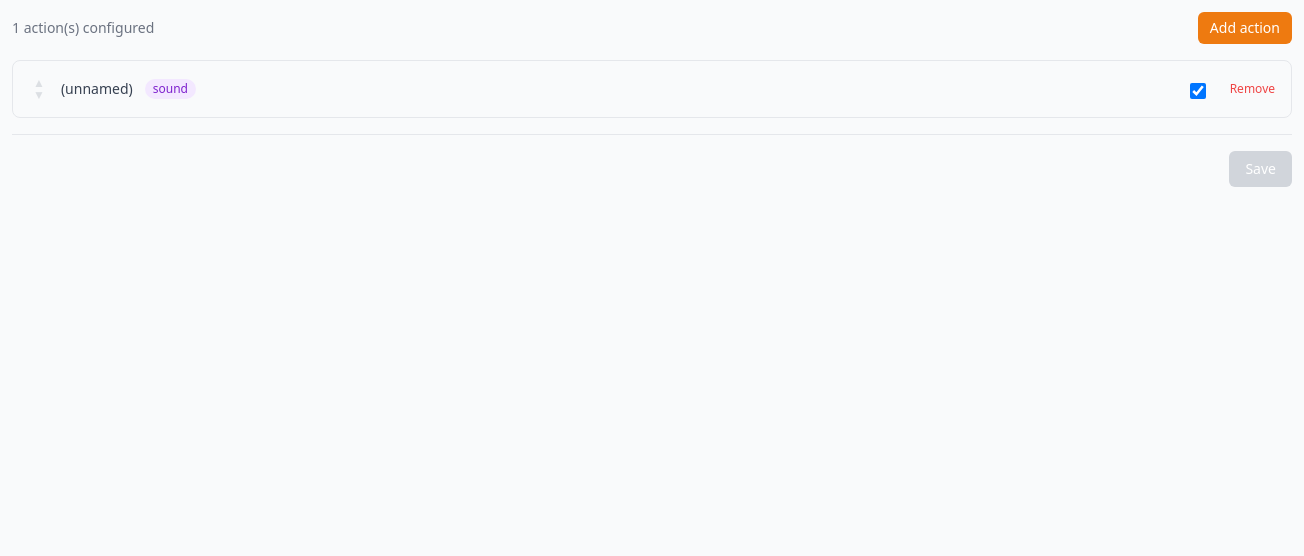
Scenario: ActionsTab validation › shows error when action has empty name
# Trigger dirty state by adding another action, then save
Click the button "Add action" at [1245, 28], box [1198,12,1292,44]
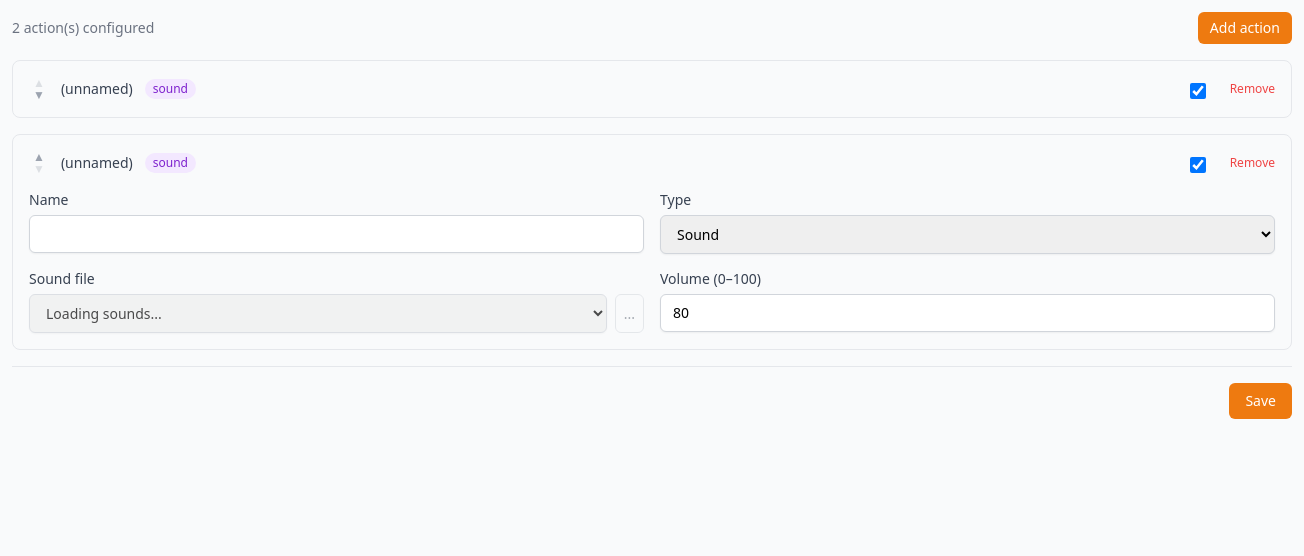
Click the button "Save" at [1261, 401], box [1229,383,1292,419]
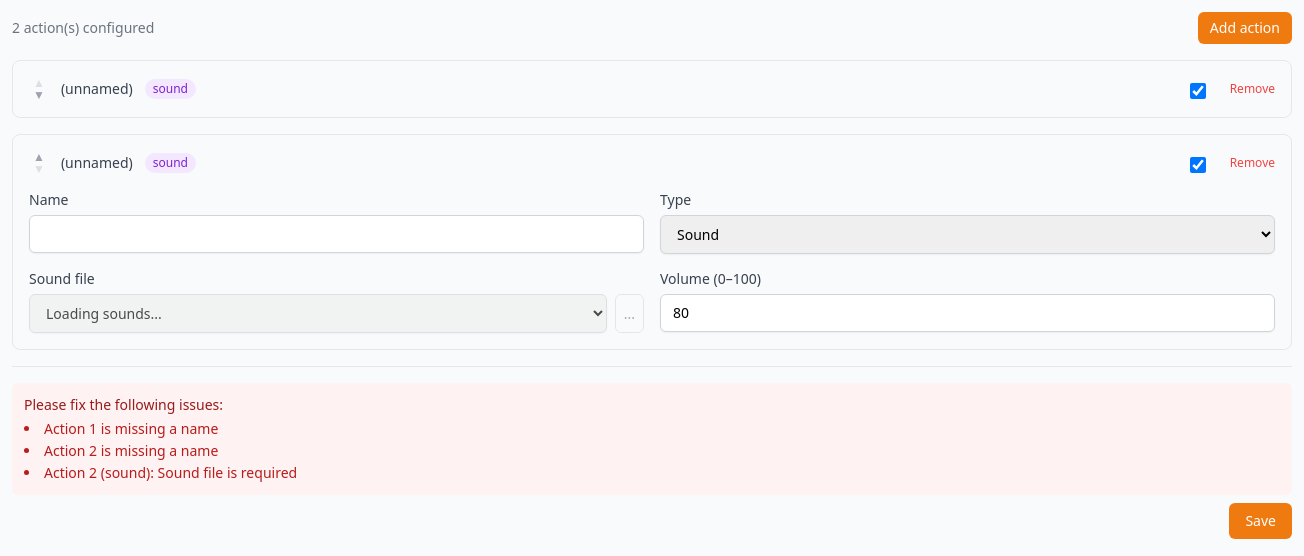
Result: the list item "Action 1 is missing a name" is shown at [44,419,218,438]
